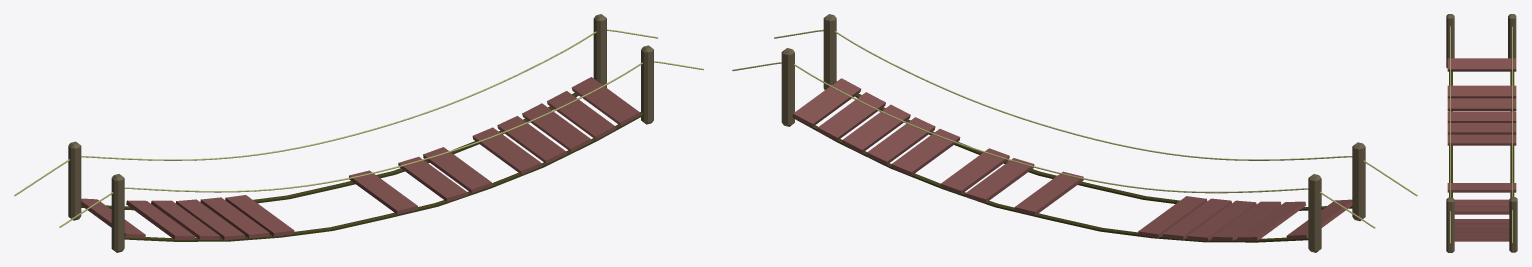
File: Bridge_broken.fbx
3 renders of one model, left to right at view 1: azimuth 30°, elevation 25°; view 2: azimuth 150°, elevation 25°; view 3: azimuth 270°, elevation 25°, orthographic. The views are drawn at different scales.
Visible parts, largest first — view 1: Bridge_broken; view 2: Bridge_broken; view 3: Bridge_broken.
Boxes of the visible parts, left/top/right/bottom form: Bridge_broken: left=14, top=14, right=703, bottom=252; Bridge_broken: left=732, top=14, right=1417, bottom=252; Bridge_broken: left=1446, top=14, right=1517, bottom=252.
Size of the model in its own units: 1647 by 267 by 223.
